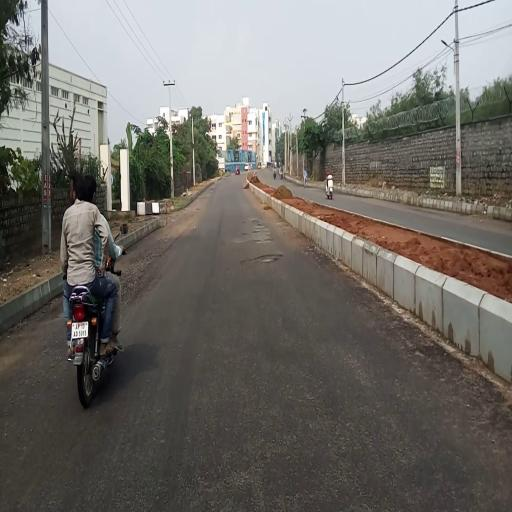street_light_0: (439, 36, 455, 62)
